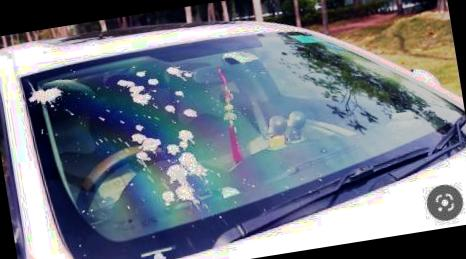Bird Poop: (167, 163, 195, 199), (132, 132, 161, 162), (118, 79, 152, 104), (169, 130, 194, 153), (180, 152, 206, 173), (30, 88, 61, 102), (167, 66, 192, 77), (163, 189, 175, 203), (223, 187, 240, 196), (185, 108, 196, 116), (154, 252, 166, 259), (136, 123, 144, 130), (149, 77, 159, 82), (167, 104, 174, 111), (138, 71, 146, 75), (176, 89, 183, 93), (187, 128, 191, 132)
